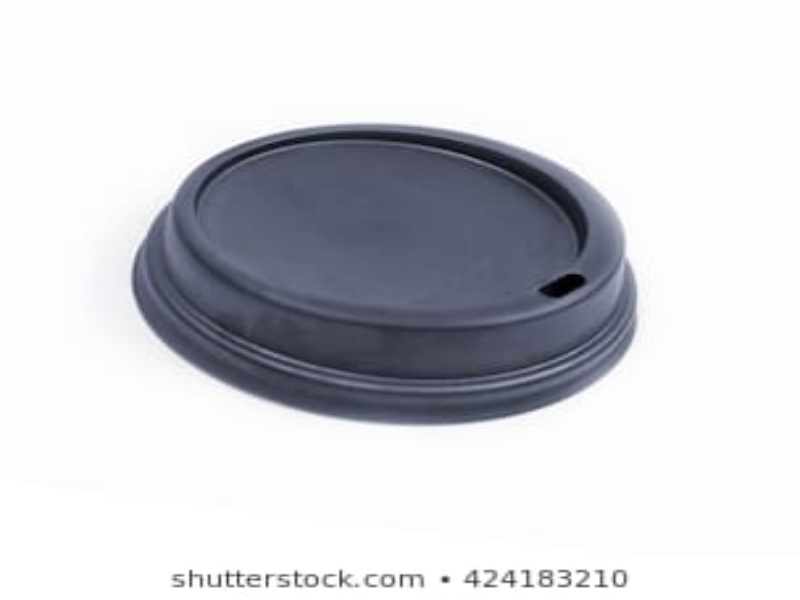coffee-lid: (128, 116, 641, 428)
